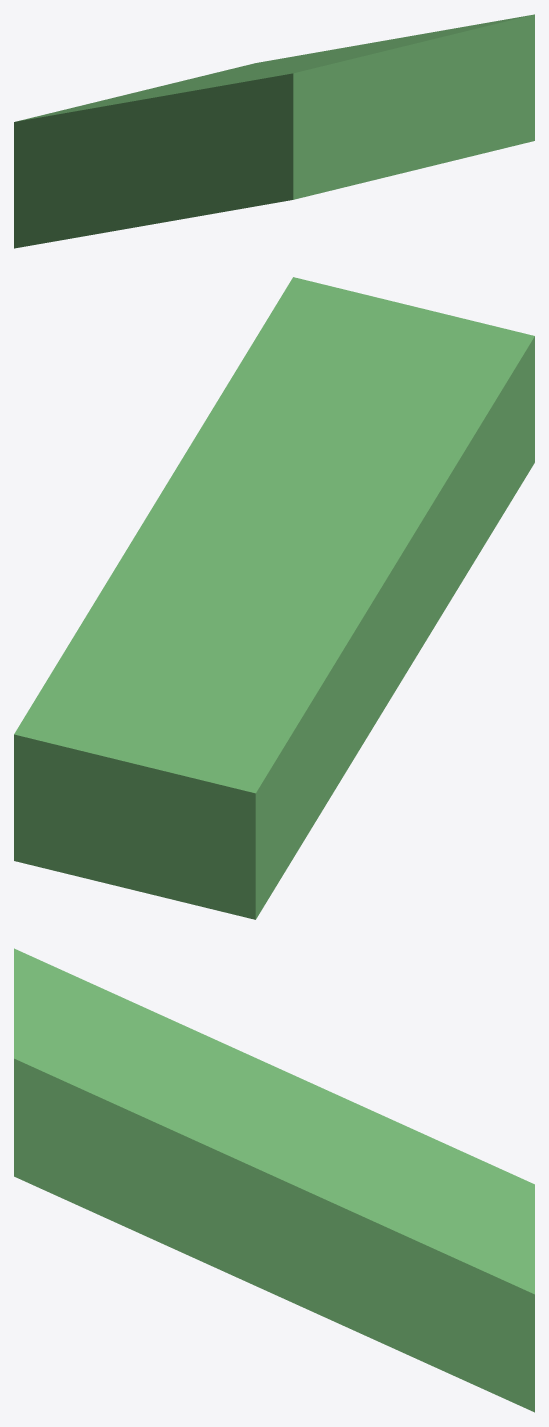
The model's file is SM_Ramp_50cm.fbx.
The picture shows the model from 3 angles, top to bottom: view 1: azimuth 30°, elevation 25°; view 2: azimuth 150°, elevation 25°; view 3: azimuth 270°, elevation 25°; orthographic projection. The views are drawn at different scales.
Parts seen in each view (by area): view 1: SM_Ramp_50cm; view 2: SM_Ramp_50cm; view 3: SM_Ramp_50cm.
Part boxes in pixels (bbox=[...]): SM_Ramp_50cm: bbox=[14, 14, 534, 248]; SM_Ramp_50cm: bbox=[14, 277, 534, 919]; SM_Ramp_50cm: bbox=[14, 948, 534, 1412].
Size of the model in its own units: 100 by 150 by 200.
